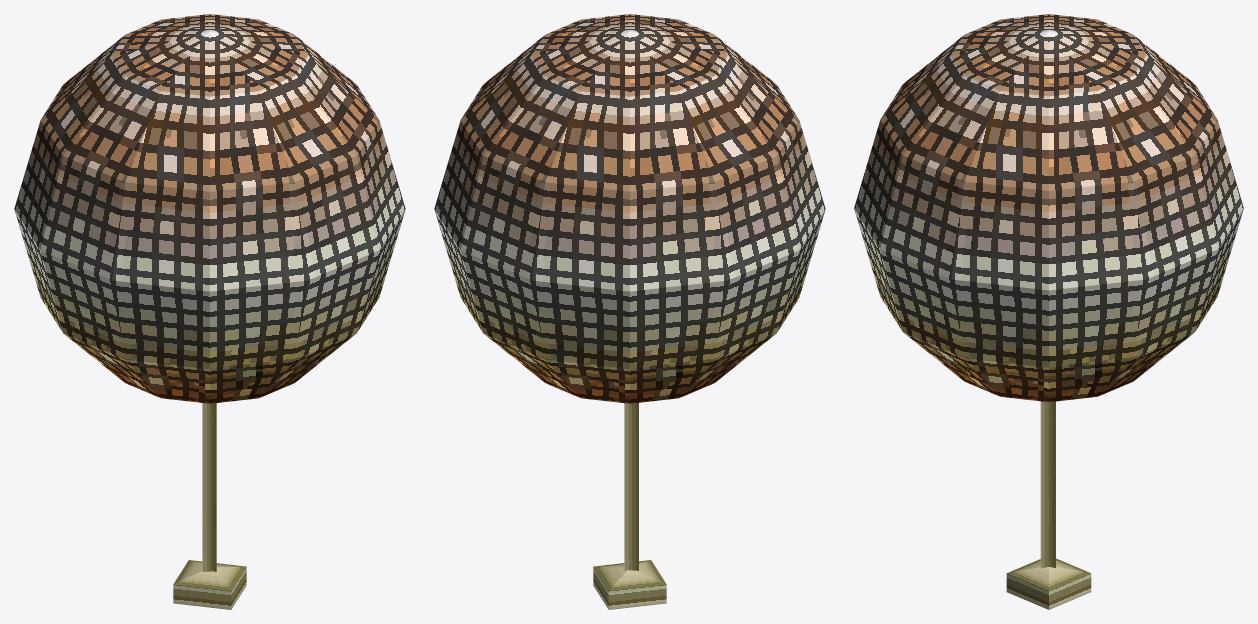
The model's file is disco_ball.fbx.
3 views of the same model, side by side, from view 1: azimuth 30°, elevation 25°; view 2: azimuth 150°, elevation 25°; view 3: azimuth 270°, elevation 25° (orthographic).
Visible parts, largest first — view 1: mesh_0, mesh_1; view 2: mesh_0, mesh_1; view 3: mesh_0, mesh_1.
Part boxes in pixels (left/top/right/bottom): mesh_0: left=14, top=14, right=405, bottom=403; mesh_1: left=173, top=403, right=246, bottom=609; mesh_0: left=434, top=14, right=825, bottom=403; mesh_1: left=593, top=403, right=666, bottom=609; mesh_0: left=854, top=14, right=1243, bottom=402; mesh_1: left=1006, top=401, right=1091, bottom=609.
Bounding box in the file's own units: 47.39 × 75.21 × 47.39.
Materials: 2 (2 with a texture image).
